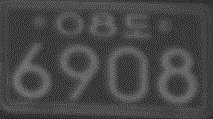0: (106, 44, 150, 103), (54, 10, 84, 37)
6: (12, 42, 53, 100)
8: (156, 46, 200, 104), (88, 10, 117, 38)
9: (58, 43, 100, 101)
도: (122, 12, 150, 40)
